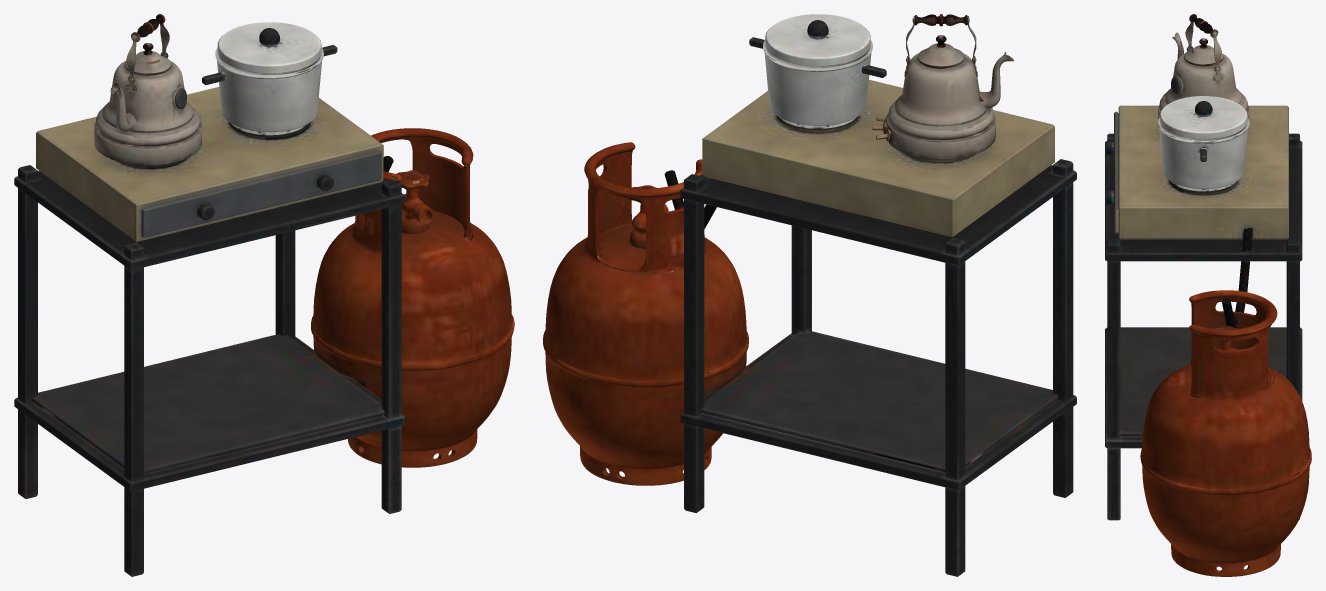
File: cooker.glb
3 renders of one model, left to right at view 1: azimuth 30°, elevation 25°; view 2: azimuth 150°, elevation 25°; view 3: azimuth 270°, elevation 25°, orthographic. The views are drawn at different scales.
Visible parts, largest first — view 1: cooker; view 2: cooker; view 3: cooker.
Boxes of the visible parts, x1,y1,x2,y2 form: cooker: (14, 14, 514, 576); cooker: (543, 14, 1076, 576); cooker: (1105, 14, 1311, 576).
Bounding box in the file's own units: 0.9616 × 1.03 × 0.4612.
2 materials, 2 textured.
